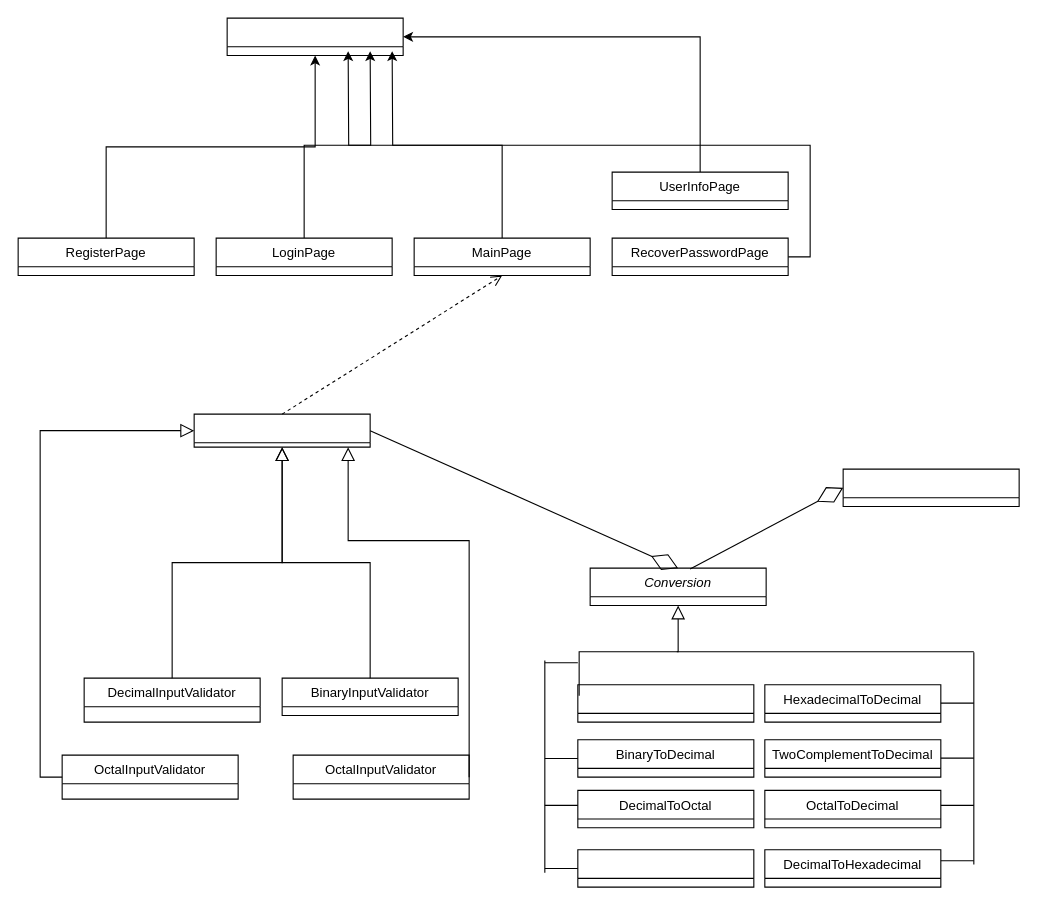
Image size: 1037x905. Some labels were removed from this diagram. Each missing label, with the centre of its shape:
AppShell: [314,36]
Converter: [930,487]
DecimalToBinary: [665,703]
DecimalToTwoComplement: [665,868]
InputValidator: [281,430]
